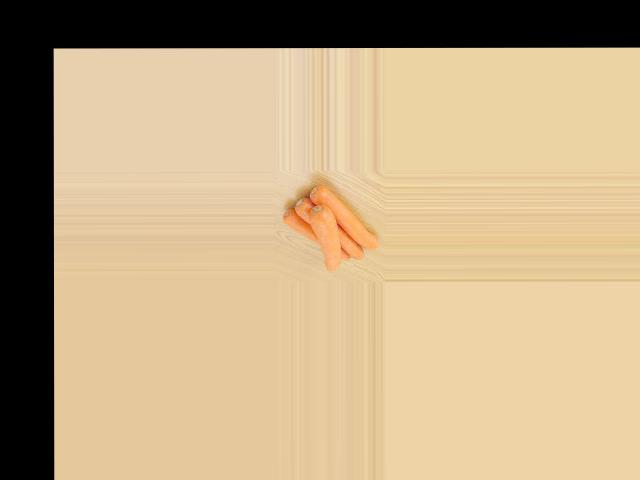carrot: (276, 205, 333, 255)
